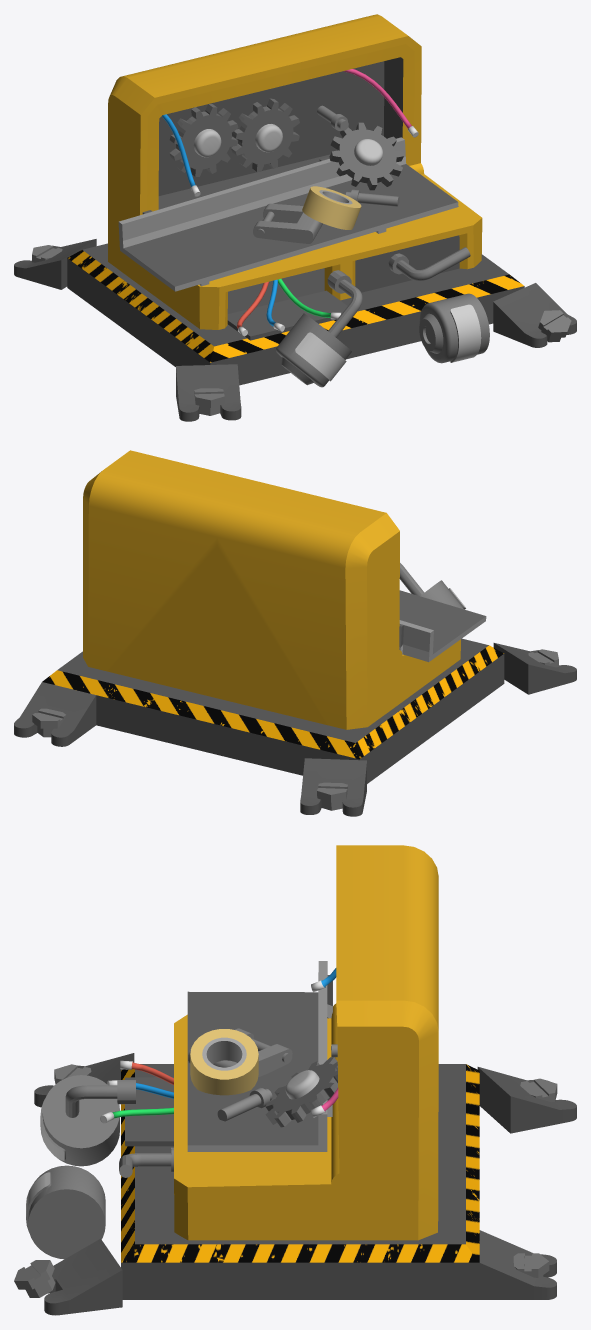
Rendered from etiketMakinaParcali.fbx.
3 renders of one model, top to bottom at view 1: azimuth 30°, elevation 25°; view 2: azimuth 150°, elevation 25°; view 3: azimuth 270°, elevation 25°, orthographic. The views are drawn at different scales.
Parts seen in each view (by area): view 1: govde.001, makinaAlt.001, uzunRay2.001, ayak.001, etiketKafa2.001, cark.001, etiketKafa2.004, cark.003, cark.002, govde.003, bantMakina.002, bant.018 (+4 smaller); view 2: govde.001, makinaAlt.001, ayak.001, uzunRay2.001, etiketKafa2.004; view 3: govde.001, makinaAlt.001, ayak.001, uzunRay2.001, etiketKafa2.001, etiketKafa2.004, bant.018, cark.001, govde.003, boru1.001, bantMakina.002, boru2.003 (+1 smaller).
Part boxes in pixels (left/top/right/bottom): govde.001: left=108, top=14, right=482, bottom=329; makinaAlt.001: left=67, top=243, right=524, bottom=385; uzunRay2.001: left=118, top=137, right=458, bottom=291; ayak.001: left=14, top=239, right=576, bottom=421; etiketKafa2.001: left=419, top=293, right=489, bottom=363; cark.001: left=329, top=122, right=403, bottom=190; etiketKafa2.004: left=276, top=313, right=351, bottom=387; cark.003: left=231, top=98, right=299, bottom=171; cark.002: left=169, top=104, right=238, bottom=176; govde.003: left=227, top=290, right=347, bottom=340; bantMakina.002: left=253, top=203, right=322, bottom=243; bant.018: left=302, top=186, right=361, bottom=229; govde.001: left=83, top=450, right=460, bottom=729; makinaAlt.001: left=42, top=638, right=504, bottom=783; ayak.001: left=14, top=643, right=576, bottom=816; uzunRay2.001: left=399, top=590, right=486, bottom=662; etiketKafa2.004: left=420, top=580, right=465, bottom=609; govde.001: left=174, top=845, right=438, bottom=1240; makinaAlt.001: left=121, top=1064, right=479, bottom=1299; ayak.001: left=14, top=1053, right=576, bottom=1315; uzunRay2.001: left=187, top=961, right=332, bottom=1151; etiketKafa2.001: left=26, top=1165, right=105, bottom=1259; etiketKafa2.004: left=40, top=1075, right=119, bottom=1166; bant.018: left=190, top=1029, right=258, bottom=1095; cark.001: left=265, top=1057, right=337, bottom=1127; govde.003: left=125, top=1077, right=173, bottom=1146; boru1.001: left=65, top=1080, right=135, bottom=1117; bantMakina.002: left=188, top=1028, right=292, bottom=1077; boru2.003: left=119, top=1147, right=173, bottom=1177.
Size of the model in its own units: 1454 by 810 by 1453.
